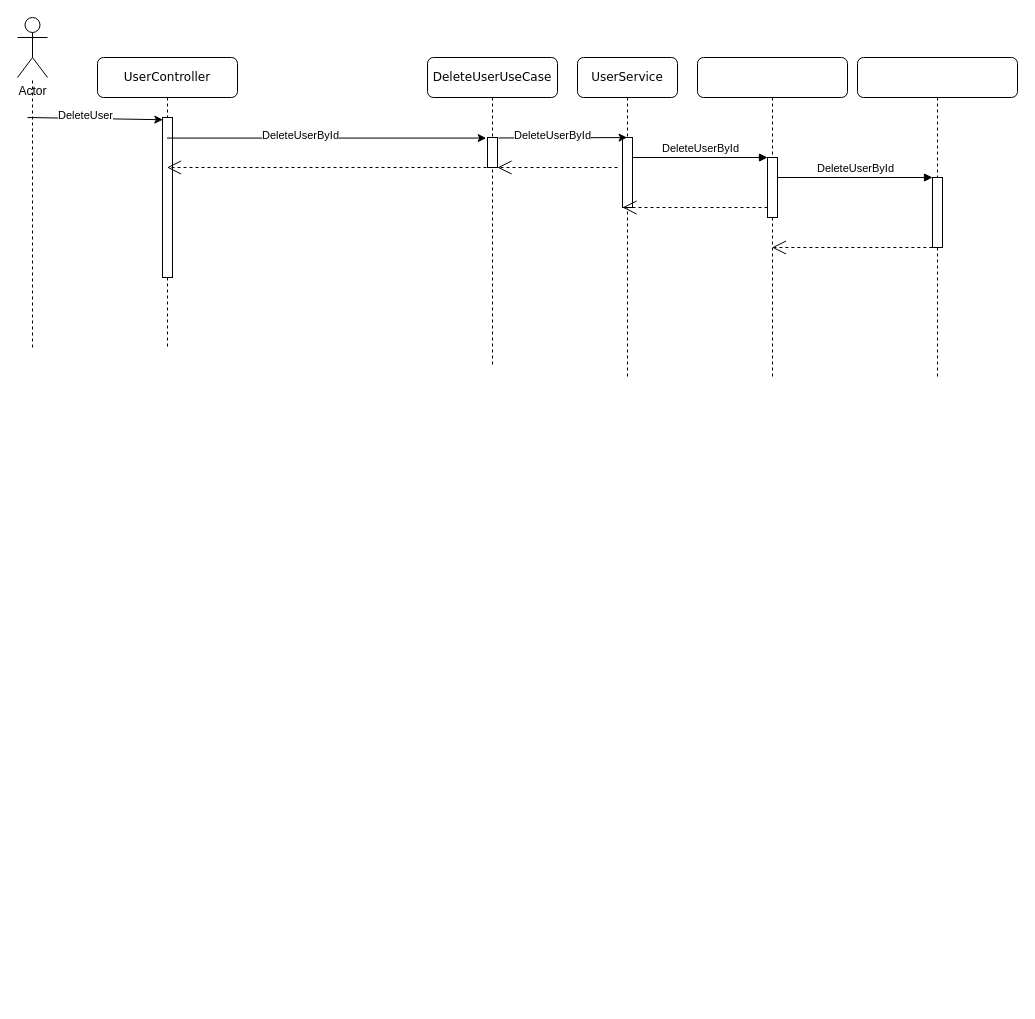
This 1035x1019 diagram has some shape labels left out. The shapes that lost their labels are listed below. From the top down, each one's box as (x1, y1, x2, y2) in pixels, then its label:
(696, 56, 848, 378): UserRepositoryOutPort
(856, 56, 1018, 378): UserRepositoryAdapter
